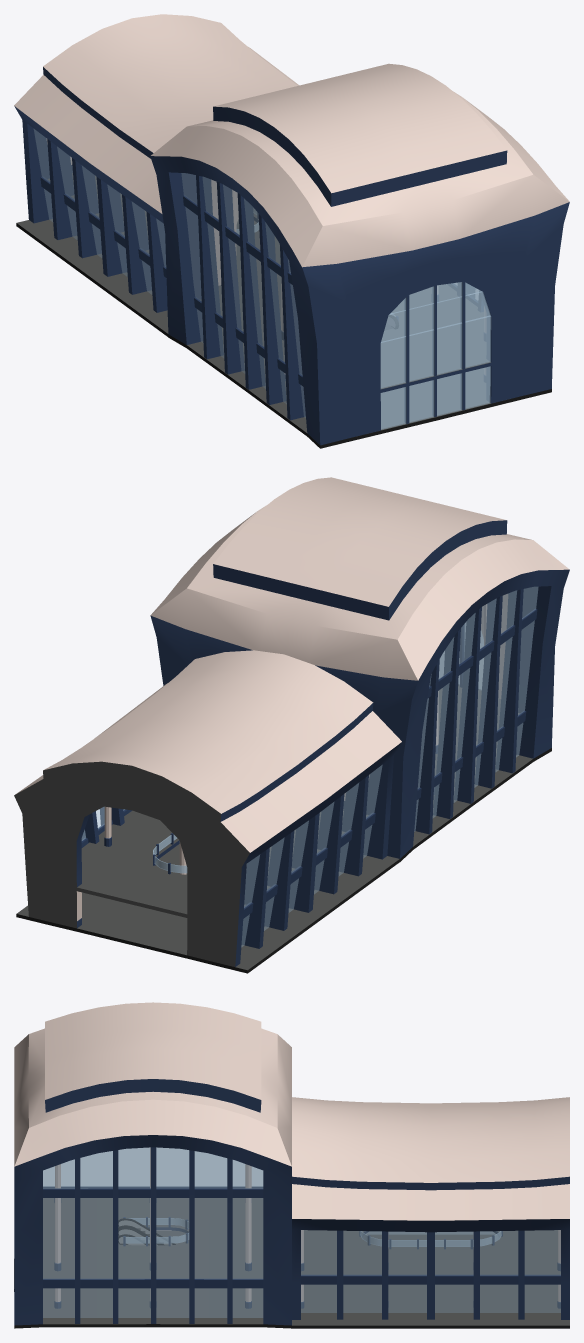
Rendered from airport-terminal-module-2.glb.
3 views of the same model, one above another, from view 1: azimuth 30°, elevation 25°; view 2: azimuth 150°, elevation 25°; view 3: azimuth 270°, elevation 25° (orthographic). The views are drawn at different scales.
Visible parts, largest first — view 1: 07.Modulo2_AIRPORT_0; view 2: 07.Modulo2_AIRPORT_0; view 3: 07.Modulo2_AIRPORT_0.
Part boxes in pixels (x1,y1,x2,y2): 07.Modulo2_AIRPORT_0: [14, 14, 569, 448]; 07.Modulo2_AIRPORT_0: [14, 477, 569, 973]; 07.Modulo2_AIRPORT_0: [14, 1002, 569, 1328].
Size of the model in its own units: 35.59 by 33.1 by 70.01.
Materials: 1 (1 with a texture image).
